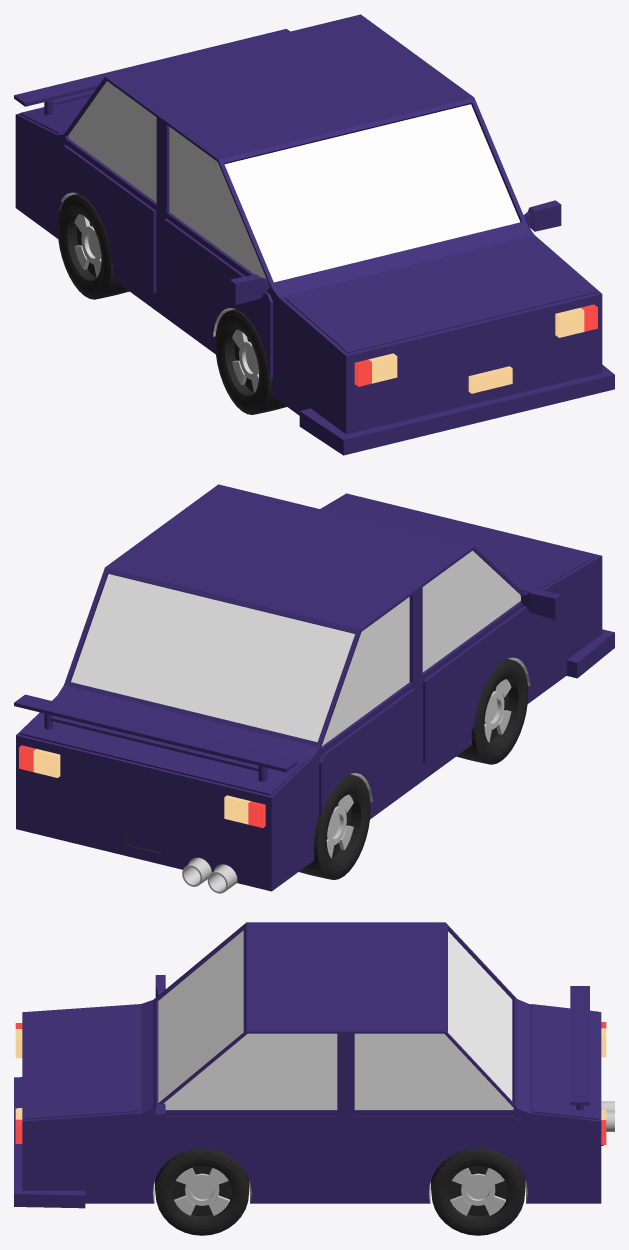
Rendered from low poly car.gltf.
3 views of the same model, one above another, from view 1: azimuth 30°, elevation 25°; view 2: azimuth 150°, elevation 25°; view 3: azimuth 270°, elevation 25° (orthographic). The views are drawn at different scales.
Visible parts, largest first — view 1: Cube.008; view 2: Cube.008; view 3: Cube.008.
Part boxes in pixels (<box>): Cube.008: <box>14,14,614,455</box>; Cube.008: <box>14,484,614,893</box>; Cube.008: <box>14,922,614,1235</box>.
Bounding box in the file's own units: 2.35 × 1.61 × 4.3.
